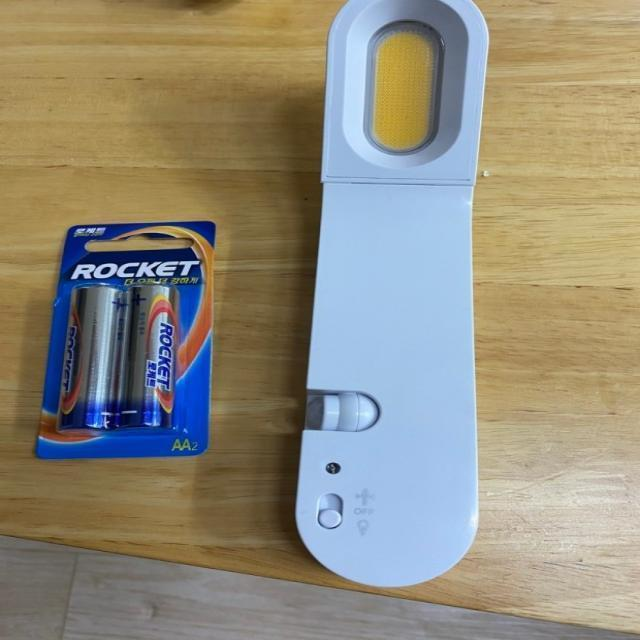Hazard: (57, 281, 125, 434), (117, 279, 178, 436)
